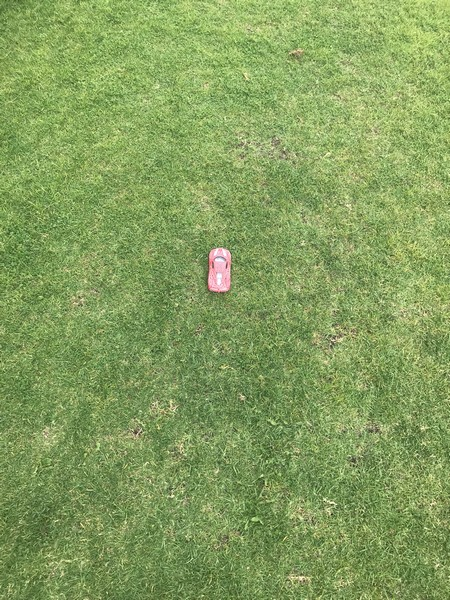RC: (206, 246, 234, 295)
